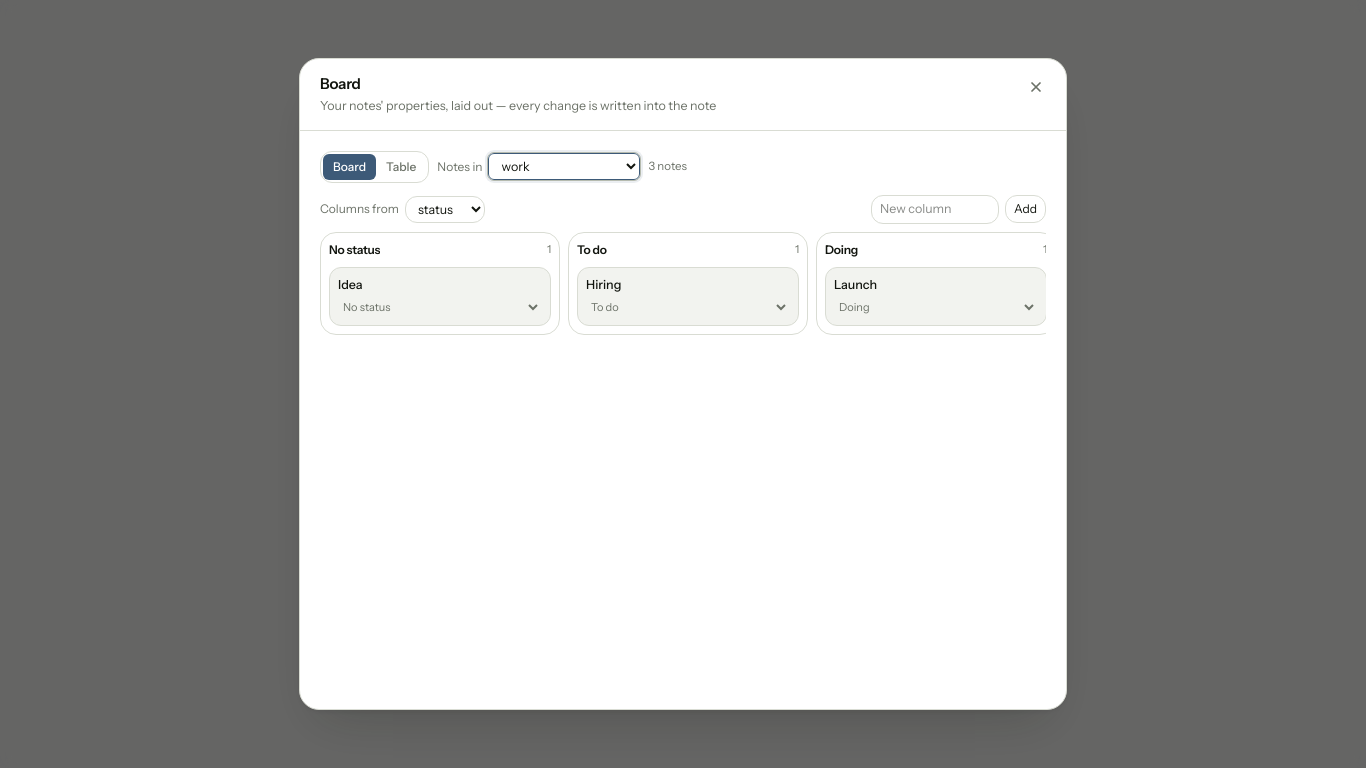
Test case: FolderViewsDialog — board › says so, and leaves the card, when the note cannot be changed
Expected: the button "Launch" is shown, [834, 276, 1038, 294]
Select "Done" in the dropdown named "Move Launch": (936, 307) [834, 298, 1038, 316]
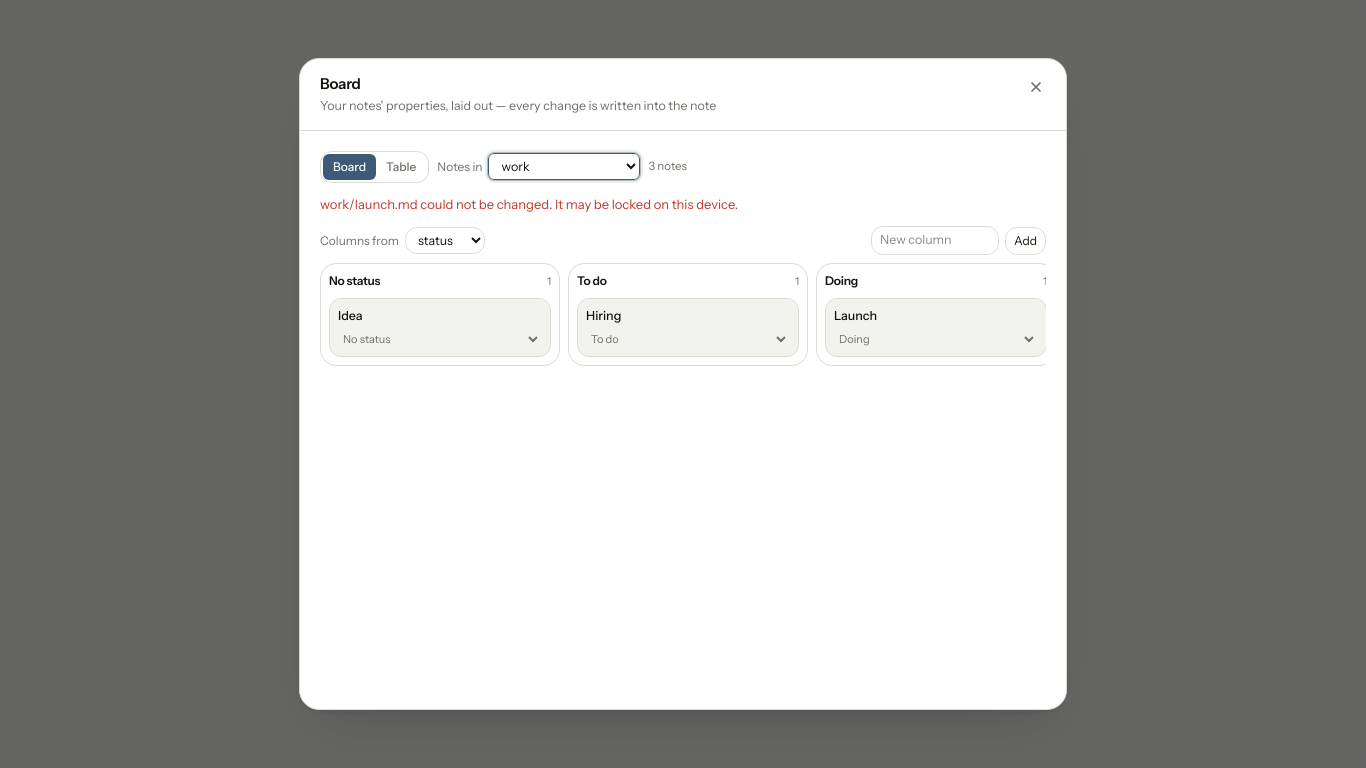
Expected: the button "Launch" is shown, [834, 307, 1038, 326]
Now the message shows "locked", box [320, 196, 738, 212]
